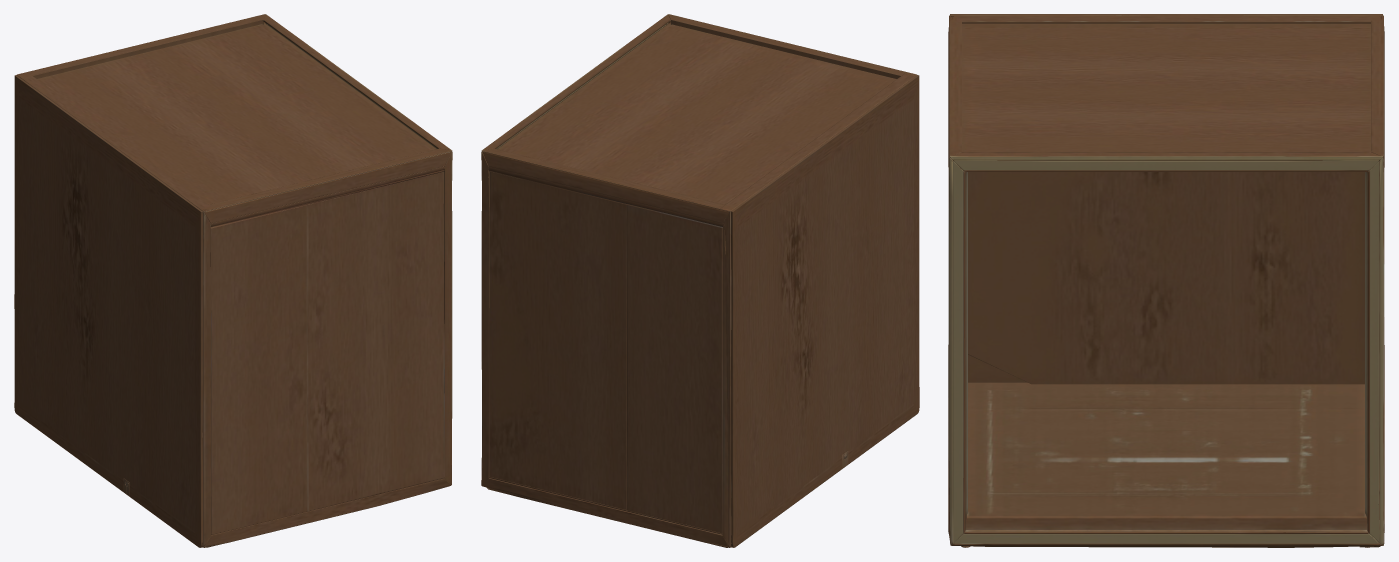
File: cabinet.glb
3 views of the same model, side by side, from view 1: azimuth 30°, elevation 25°; view 2: azimuth 150°, elevation 25°; view 3: azimuth 270°, elevation 25° (orthographic). The views are drawn at different scales.
Parts seen in each view (by area): view 1: tripo_node_69f700c7-f7ed-4f3f-95d0-f9c480424dd7; view 2: tripo_node_69f700c7-f7ed-4f3f-95d0-f9c480424dd7; view 3: tripo_node_69f700c7-f7ed-4f3f-95d0-f9c480424dd7.
Part boxes in pixels (x1,y1,x2,y2): tripo_node_69f700c7-f7ed-4f3f-95d0-f9c480424dd7: (14, 14, 452, 547); tripo_node_69f700c7-f7ed-4f3f-95d0-f9c480424dd7: (481, 14, 919, 547); tripo_node_69f700c7-f7ed-4f3f-95d0-f9c480424dd7: (948, 14, 1384, 547).
Bounding box in the file's own units: 0.7749 × 0.9995 × 0.9995.
Materials: 1 (1 with a texture image).
